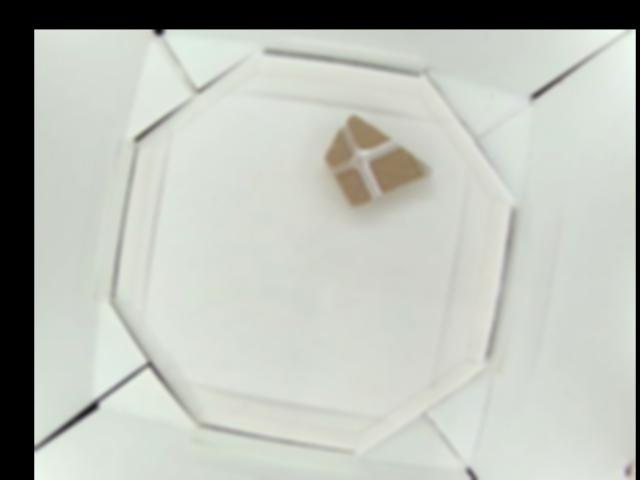China: (326, 114, 430, 212)
